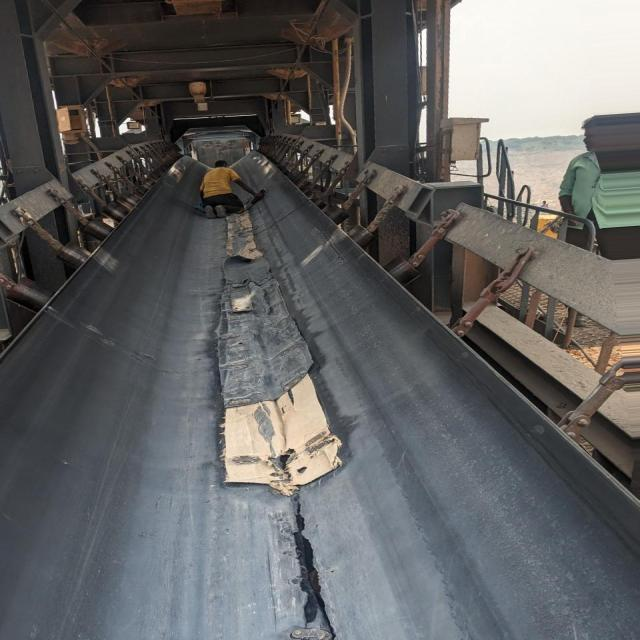Human: (199, 160, 264, 219)
Roller: (6, 190, 146, 314), (285, 168, 422, 285)
Tear: (292, 513, 325, 624)
patch work: (220, 254, 341, 486)
